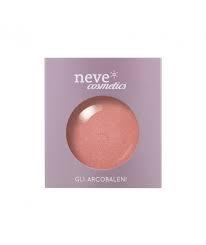Plastik: (44, 56, 163, 187)
